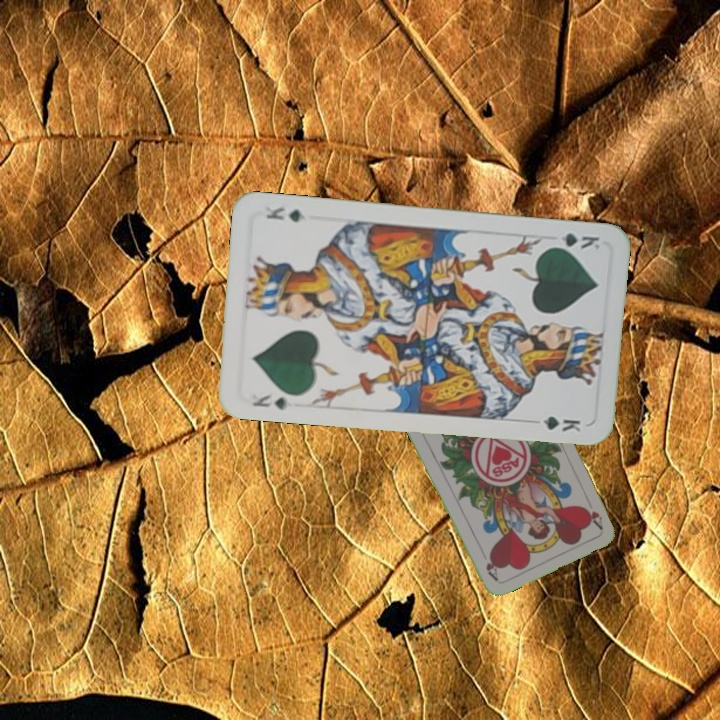GK: (545, 228, 602, 252), (249, 391, 294, 412)
HA: (580, 493, 605, 531)
